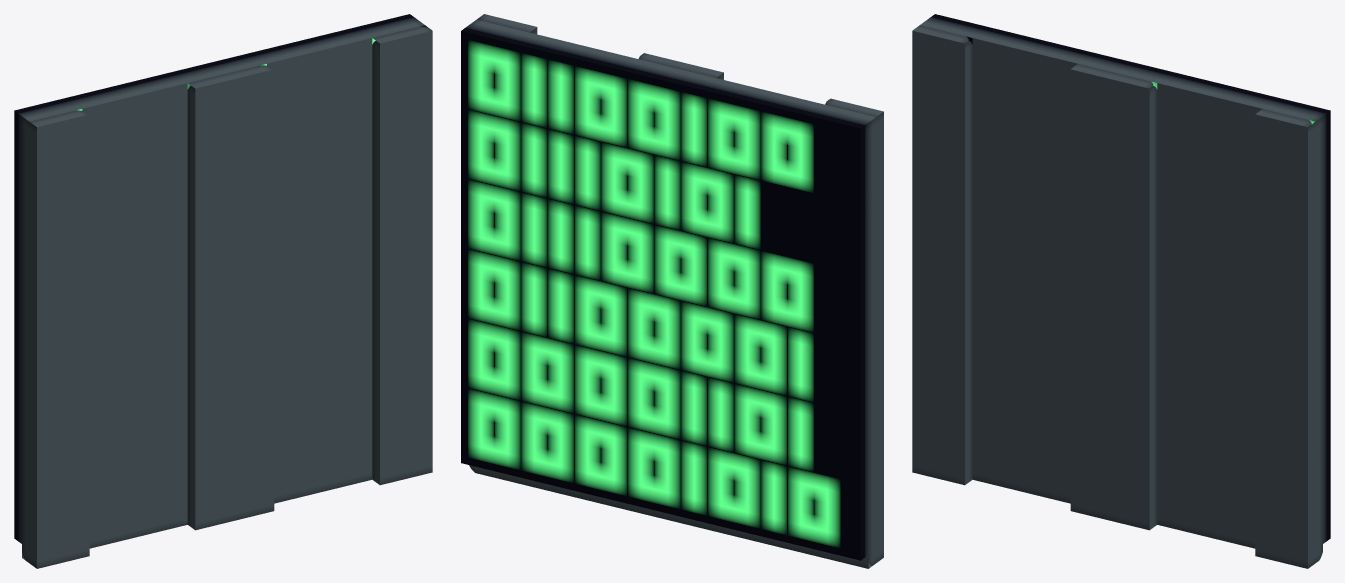
The model's file is neon_easter_egg_01_ukryt.dae.
3 renders of one model, left to right at view 1: azimuth 30°, elevation 25°; view 2: azimuth 150°, elevation 25°; view 3: azimuth 330°, elevation 25°, orthographic.
Parts seen in each view (by area): view 1: Content; view 2: Content; view 3: Content.
Boxes of the visible parts, <box> form: Content: <box>14,14,432,568</box>; Content: <box>461,14,883,568</box>; Content: <box>912,14,1330,568</box>.
Bounding box in the file's own units: 30 × 32 × 3.
Materials: 1 (1 with a texture image).
